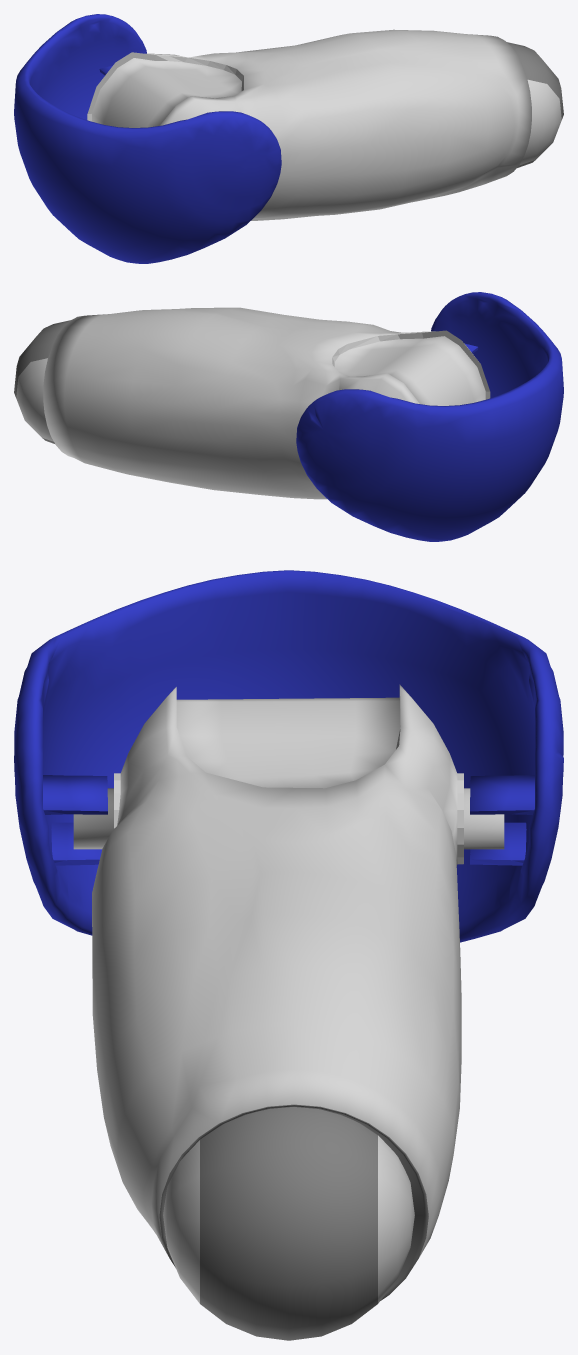
The model's file is RShoulderRoll.dae.
3 renders of one model, top to bottom at view 1: azimuth 30°, elevation 25°; view 2: azimuth 150°, elevation 25°; view 3: azimuth 270°, elevation 25°, orthographic. The views are drawn at different scales.
Visible parts, largest first — view 1: root_026; view 2: root_026; view 3: root_026.
Boxes of the visible parts, left/top/right/bottom form: root_026: left=14, top=14, right=563, bottom=263; root_026: left=14, top=292, right=563, bottom=541; root_026: left=14, top=570, right=563, bottom=1340.
Size of the model in its own units: 170 by 81.69 by 60.
